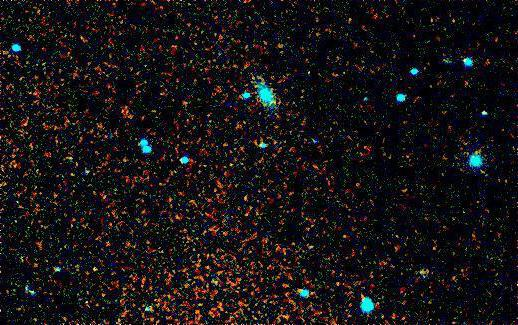star: (235, 172, 265, 202)
